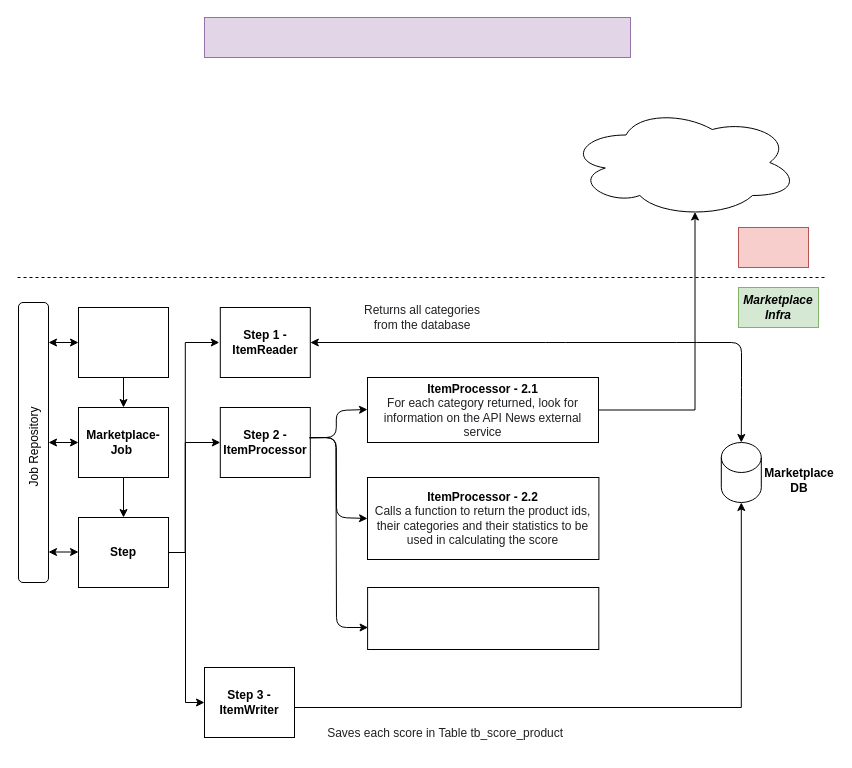
The diagram is 852 pixels wide and 768 high, and some of its shapes have lost their labels. The shapes that lost their labels are listed below. From the top down, each one's centre as x and y in pixels, then its label:
the point at 417,37: Job Architecture - Using Spring Batch as implementation strategy
the point at 683,162: API NEWS - https://newsapi.org/
the point at 773,247: External
the point at 123,342: Job Launcher
the point at 483,618: ItemProcessor - 2.3 Performs the score calculation for each product
